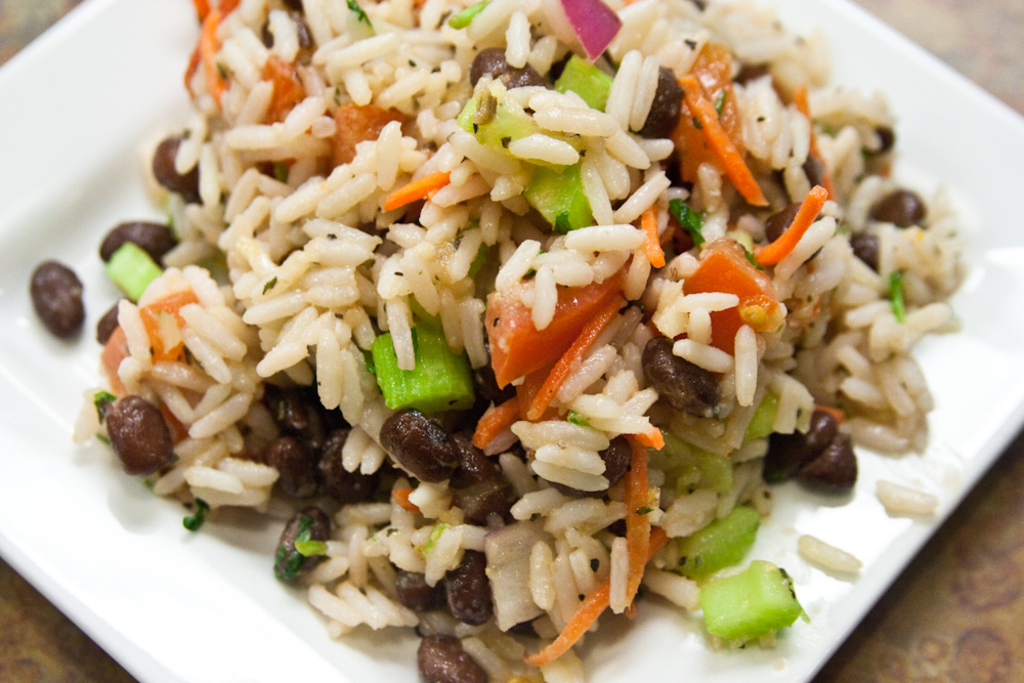Carrot: (486, 262, 637, 381), (681, 235, 780, 351), (524, 573, 614, 668)
